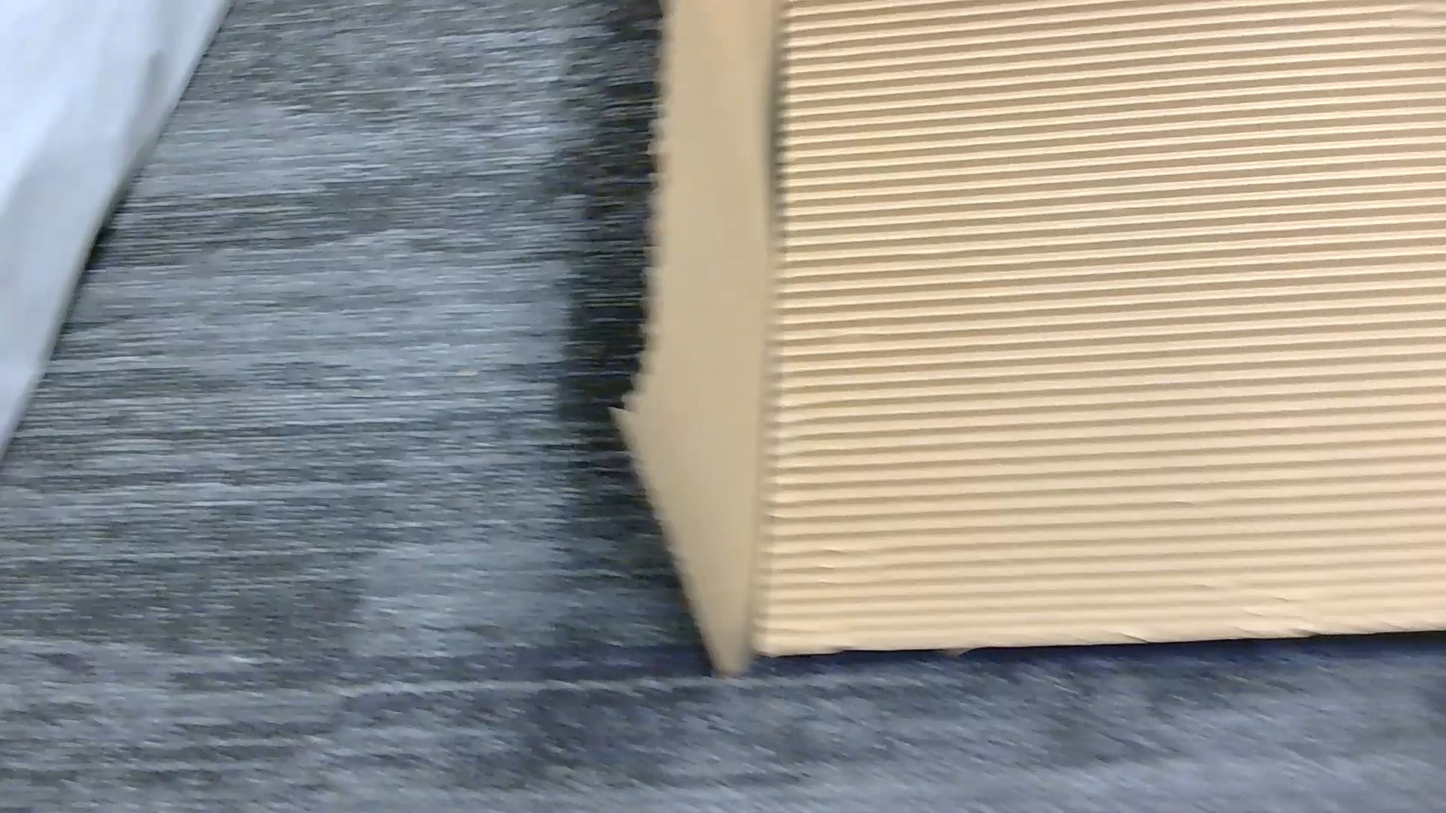Ramp: (615, 0, 1445, 670)
